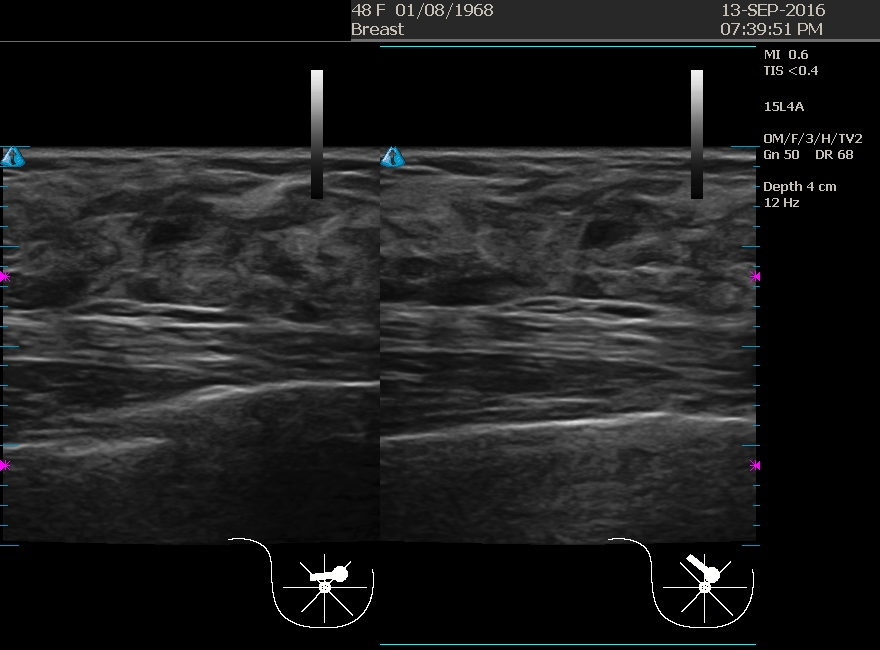BIRADS_2: (63, 152, 263, 352), (470, 169, 670, 369)
